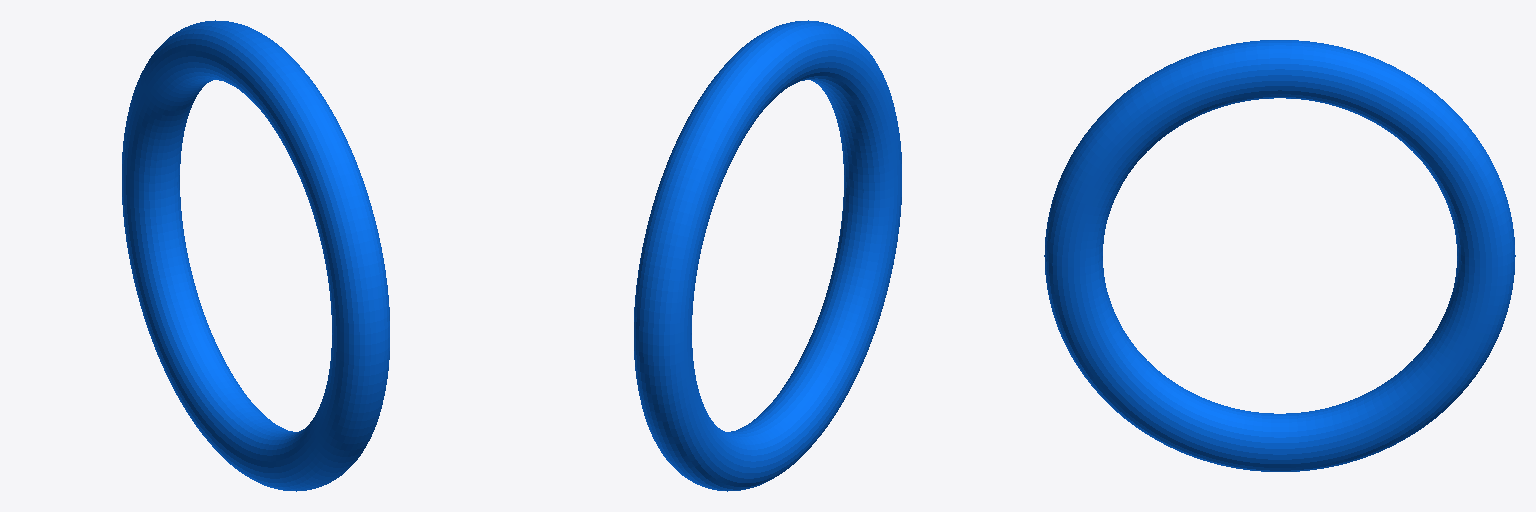
robot.urdf — ring:
<?xml version="0.0" ?>
<robot name="ring">
    <material name="blue">
        <color rgba="0.078431 0.494117 0.984313 1"/>
    </material>

    <link name="baseLink">
        <!-- from lego/lego.urdf -->
        <contact>
            <lateral_friction value="1.0"/>
            <!-- <rolling_friction value="0.03"/> -->
            <!-- <spinning_friction value="0.03"/> -->
            <!-- <damping value="1000"/> -->
           
        </contact>
        <inertial>
            <origin rpy="0 0 0" xyz="-1.6 -1.9 2.9"/>
            <mass value="2.01"/>
            <inertia ixx="1" ixy="0" ixz="0" iyy="1" iyz="0" izz="1"/>
        </inertial>
        <visual>
            <origin rpy="1.57 0 0" xyz="0 0 0"/>
            <geometry>
                <!--        radius: 10mm, depth: 14.5mm-->
                <mesh filename="meshes/newring.obj" scale="1 1 1"/>
                <!--        <box size="0.002 0.002 0.002"/>-->
            </geometry>
            <material name="blue"/>
        </visual>
        <collision >
            <origin rpy="1.57 0 0" xyz="0 0 0"/>
            <geometry>
                <mesh filename="meshes/newring_vhacd.obj" scale="1 1 1"/>
                <!--        <box size="0.002 0.002 0.002"/>-->
            </geometry>
        </collision>
    </link>

    <!-- for testing get linkstate -->
    <link name="waypoint_0">
        <!--    origin-->
        <inertial>
            <origin rpy="0 0 0" xyz="0 0 0"/>
            <mass value=".0"/>
            <inertia ixx="0." ixy="0" ixz="0" iyy="0." iyz="0" izz="0."/>
        </inertial>
    </link>

    <joint name="waypoint_joint_0" type="fixed">
        <parent link="baseLink"/>
        <child link="waypoint_0"/>
        <origin rpy="0 0 0" xyz="0 0 0"/>
    </joint>

    <link name="waypoint_1">
        <!--    middle-->
        <inertial>
            <origin rpy="0 0 0" xyz="0 0 0"/>
            <mass value=".0"/>
            <inertia ixx="0." ixy="0" ixz="0" iyy="0." iyz="0" izz="0."/>
        </inertial>
        <!--    <visual>-->
        <!--      <origin rpy="0 0 0" xyz="0 0 0"/>-->
        <!--      <geometry>-->
        <!--        <box size="0.005 0.005 0.005"/>-->
        <!--      </geometry>-->
        <!--      <material name="grey"/>-->
        <!--    </visual>-->
    </link>

    <joint name="waypoint_joint_1" type="fixed">
        <parent link="baseLink"/>
        <child link="waypoint_1"/>
        <!--    (-R, 0, 0)-->
        <origin rpy="0 0 0" xyz="-1.02 0 0"/>
    </joint>

    <link name="waypoint_2">
        <!--    left-->
        <inertial>
            <origin rpy="0 0 0" xyz="0 0 0"/>
            <mass value=".0"/>
            <inertia ixx="0." ixy="0" ixz="0" iyy="0." iyz="0" izz="0."/>
        </inertial>
    </link>

    <joint name="waypoint_joint_2" type="fixed">
        <parent link="baseLink"/>
        <child link="waypoint_2"/>
        <!--    (-sqrt(2)R/2, -sqrt(2)R/2, 0)-->
        <origin rpy="0 0 0.785398" xyz="-0.0141421 -0.0141421 0"/>
    </joint>

    <link name="waypoint_3">
        <!--    right-->
        <inertial>
            <origin rpy="0 0 0" xyz="0 0 0"/>
            <mass value=".0"/>
            <inertia ixx="0." ixy="0" ixz="0" iyy="0." iyz="0" izz="0."/>
        </inertial>
    </link>

    <joint name="waypoint_joint_3" type="fixed">
        <parent link="baseLink"/>
        <child link="waypoint_3"/>
        <!--    (-sqrt(2)R/2, sqrt(2)R/2, 0)-->
        <origin rpy="0 0 -0.785398" xyz="-0.0141421 0.0141421 0"/>
    </joint>

    <link name="waypoint_4">
        <!--    left 60deg-->
        <inertial>
            <origin rpy="0 0 0" xyz="0 0 0"/>
            <mass value=".0"/>
            <inertia ixx="0." ixy="0" ixz="0" iyy="0." iyz="0" izz="0."/>
        </inertial>
    </link>

    <joint name="waypoint_joint_4" type="fixed">
        <parent link="baseLink"/>
        <child link="waypoint_4"/>
        <!--    -cos(60)*R, -sin(60)*R, 0)-->
        <origin rpy="0 0 1.047197" xyz="-0.0100000 -0.0173205 0"/>
    </joint>

    <link name="waypoint_5">
        <!--    right 60deg-->
        <inertial>
            <origin rpy="0 0 0" xyz="0 0 0"/>
            <mass value=".0"/>
            <inertia ixx="0." ixy="0" ixz="0" iyy="0." iyz="0" izz="0."/>
        </inertial>
    </link>

    <joint name="waypoint_joint_5" type="fixed">
        <parent link="baseLink"/>
        <child link="waypoint_5"/>
        <!--    -cos(60)*R, sin(60)*R, 0)-->
        <origin rpy="0 0 -1.047198" xyz="-0.0100000 0.0173205 0"/>
    </joint> 
</robot>

--- Render facts (derived) ---
The picture shows the robot from 3 angles, left to right: view 1: azimuth 30°, elevation 25°; view 2: azimuth 150°, elevation 25°; view 3: azimuth 270°, elevation 25°; orthographic projection.
Robot: ring — 7 links, 6 joints (6 fixed); root link baseLink; default pose: every joint at zero.
Links seen in each view (by area): view 1: baseLink; view 2: baseLink; view 3: baseLink.
Boxes of the visible links, bbox=[...] form: baseLink: bbox=[122, 20, 389, 491]; baseLink: bbox=[634, 20, 901, 491]; baseLink: bbox=[1044, 40, 1515, 471].
Size in the robot's own frame: 0.0605 by 0.5147 by 0.5147 metres.
Meshes: 1 distinct files referenced, 1 mesh visuals loaded (1 OBJ).